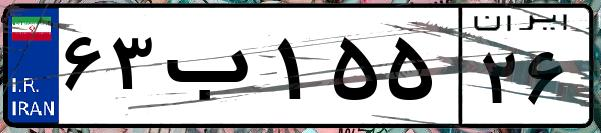1: (270, 28, 330, 110)
2: (475, 38, 525, 113)
3: (110, 28, 158, 98)
5: (385, 28, 445, 110), (330, 28, 385, 110)
6: (57, 26, 110, 100), (525, 38, 570, 115)
ب: (158, 20, 270, 120)
